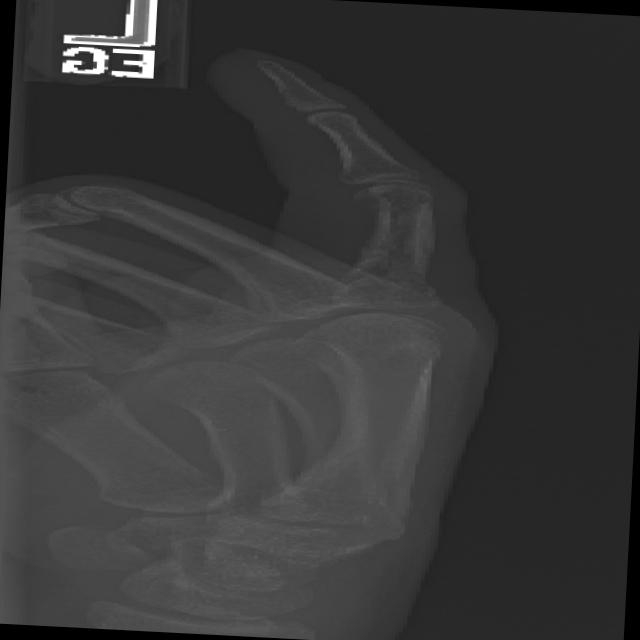fingers positive: (318, 216, 465, 311)
